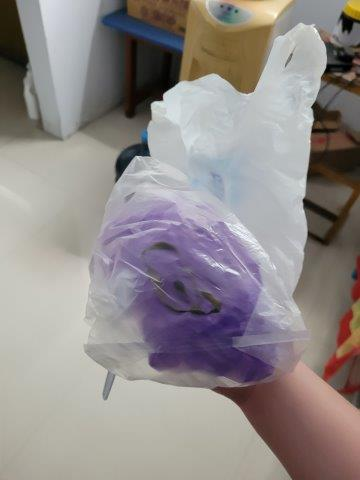plastik: (82, 25, 321, 402)
